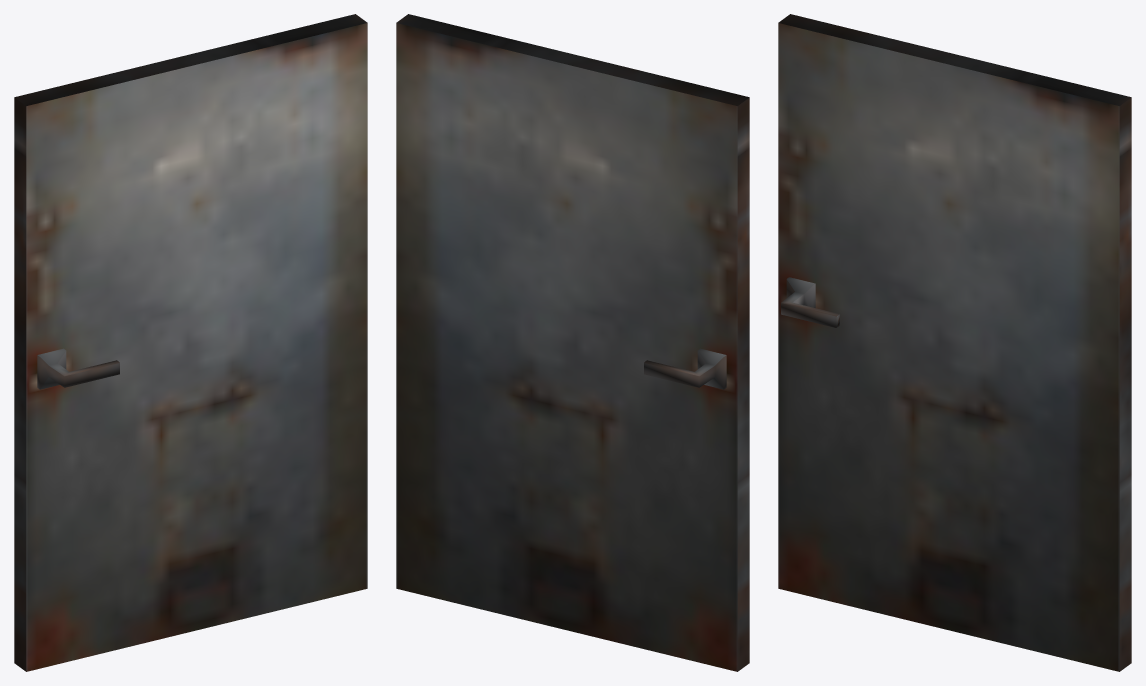
The model's file is grave_factory_locked_door_c.glb.
3 views of the same model, side by side, from view 1: azimuth 30°, elevation 25°; view 2: azimuth 150°, elevation 25°; view 3: azimuth 330°, elevation 25° (orthographic).
Parts seen in each view (by area): view 1: 01_fac_locked_door_1x1_c; view 2: 01_fac_locked_door_1x1_c; view 3: 01_fac_locked_door_1x1_c.
Boxes of the visible parts, box(x1,y1,x2,y2) form: 01_fac_locked_door_1x1_c: box(14, 14, 367, 671); 01_fac_locked_door_1x1_c: box(396, 14, 749, 671); 01_fac_locked_door_1x1_c: box(778, 14, 1131, 671).
Bounding box in the file's own units: 1.2 × 1.9 × 0.2904.
1 material, 1 textured.
